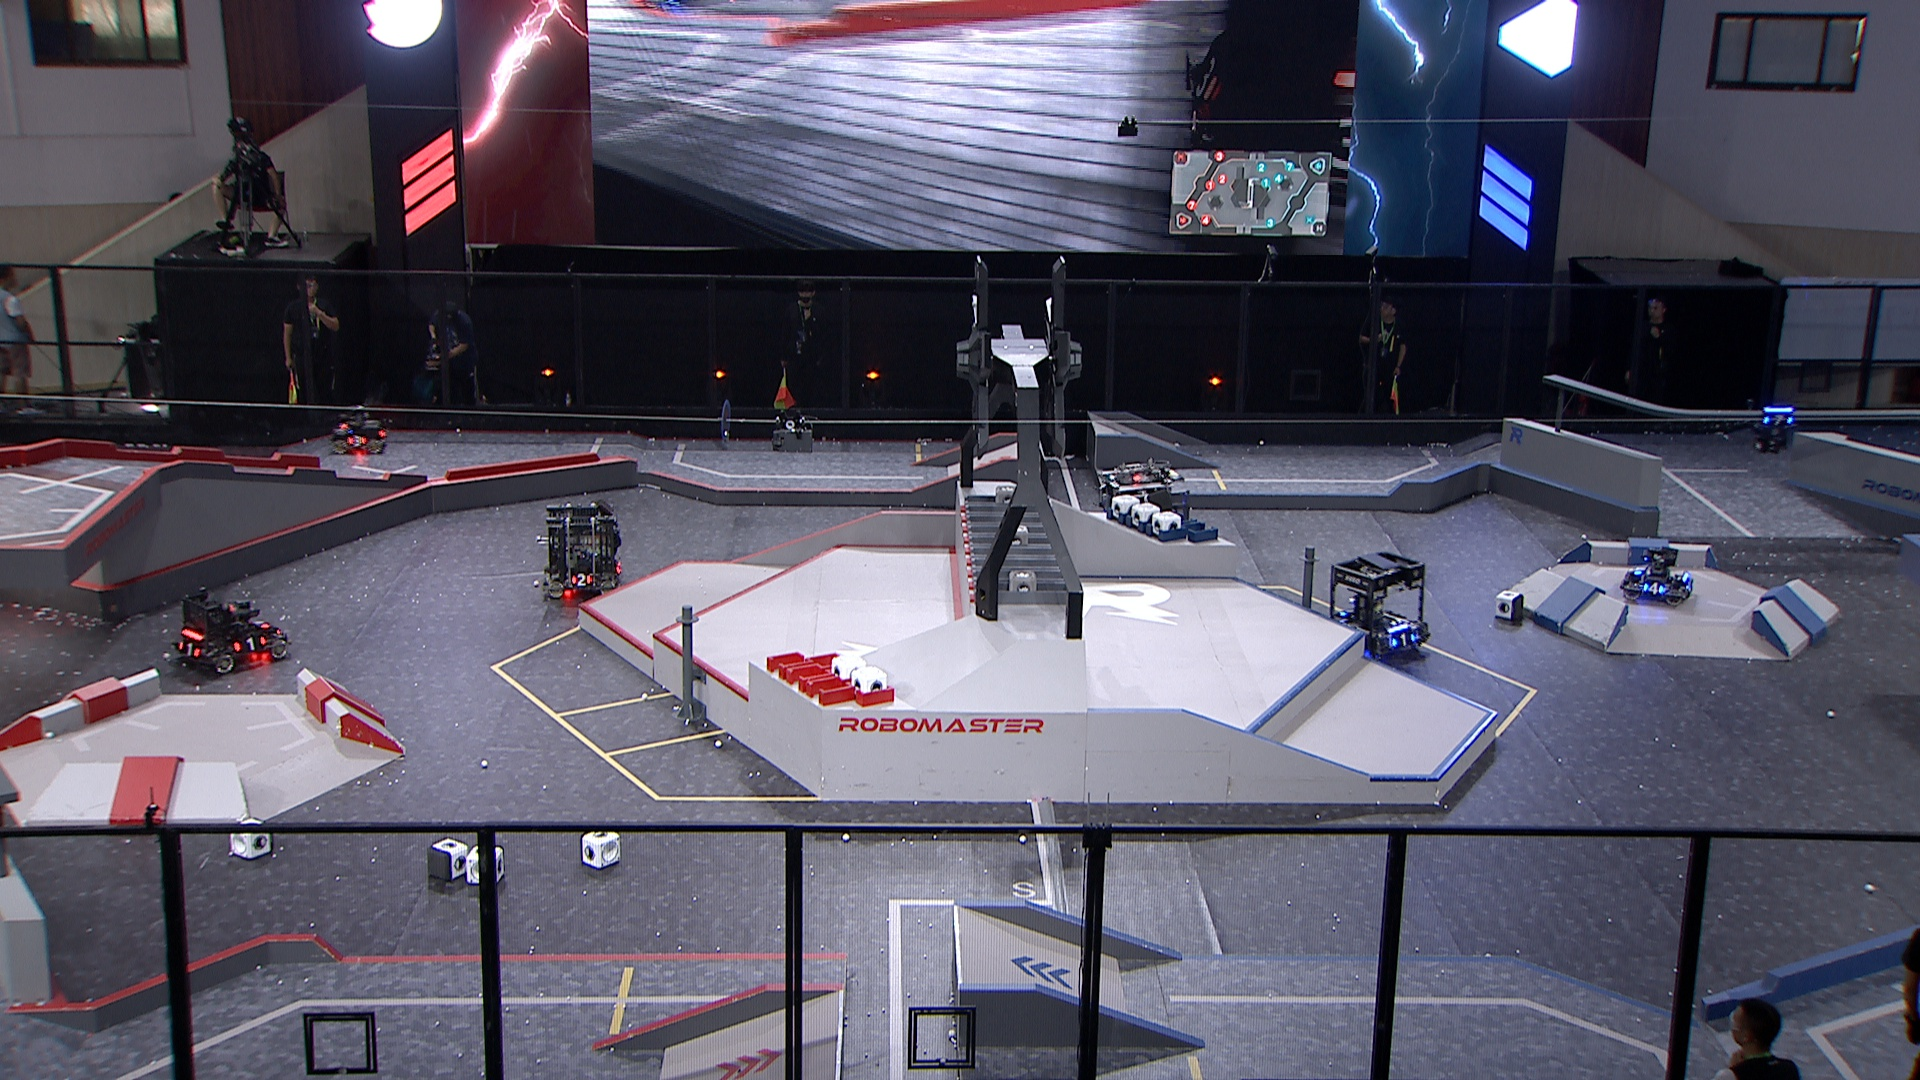armor: (233, 636, 268, 654), (174, 641, 202, 659), (1760, 414, 1795, 429), (568, 572, 596, 589), (1389, 632, 1416, 647), (344, 434, 368, 448), (1640, 583, 1667, 595), (1629, 564, 1650, 576), (1338, 607, 1356, 617)
car: (1323, 551, 1433, 659), (167, 585, 295, 679), (1093, 458, 1195, 560), (537, 500, 626, 600), (1622, 546, 1695, 608), (324, 404, 386, 456)
watcher: (1751, 404, 1801, 456)
